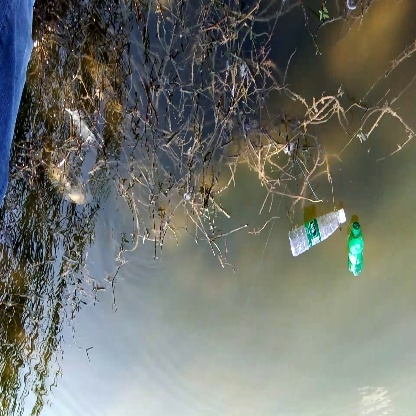bottle: (287, 207, 348, 260), (341, 223, 372, 278)
